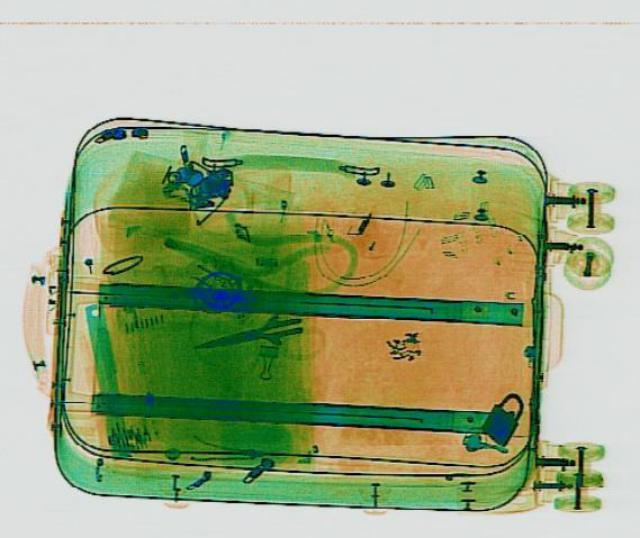Knife: (188, 306, 306, 359)
